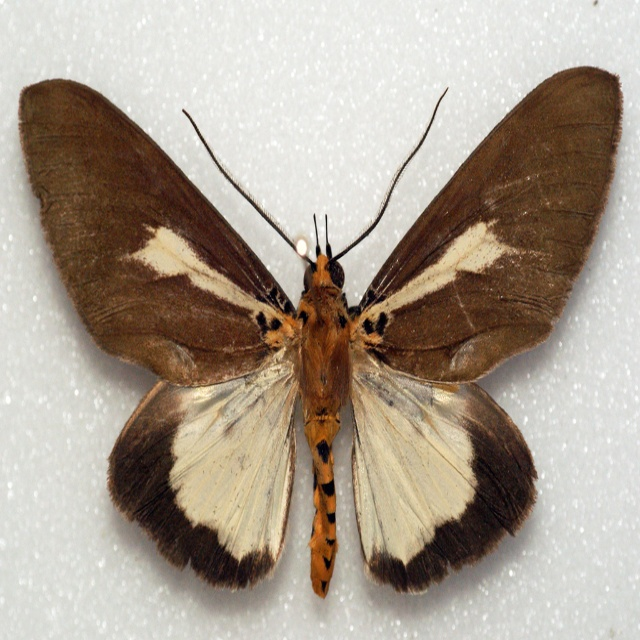Moths and butterflies: (15, 63, 628, 597)
